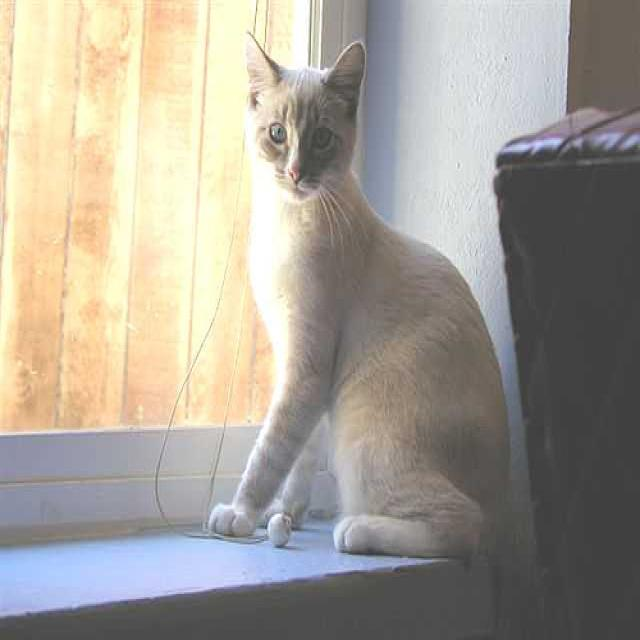cat: (210, 18, 520, 569)
